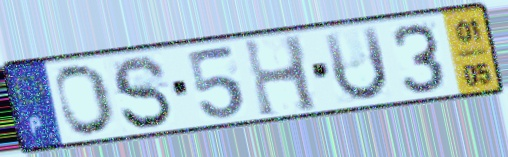3: (391, 21, 449, 97)
5: (183, 41, 249, 122)
H: (240, 32, 323, 121)
O: (53, 61, 118, 138)
S: (109, 53, 176, 132)
U: (319, 23, 392, 105)
